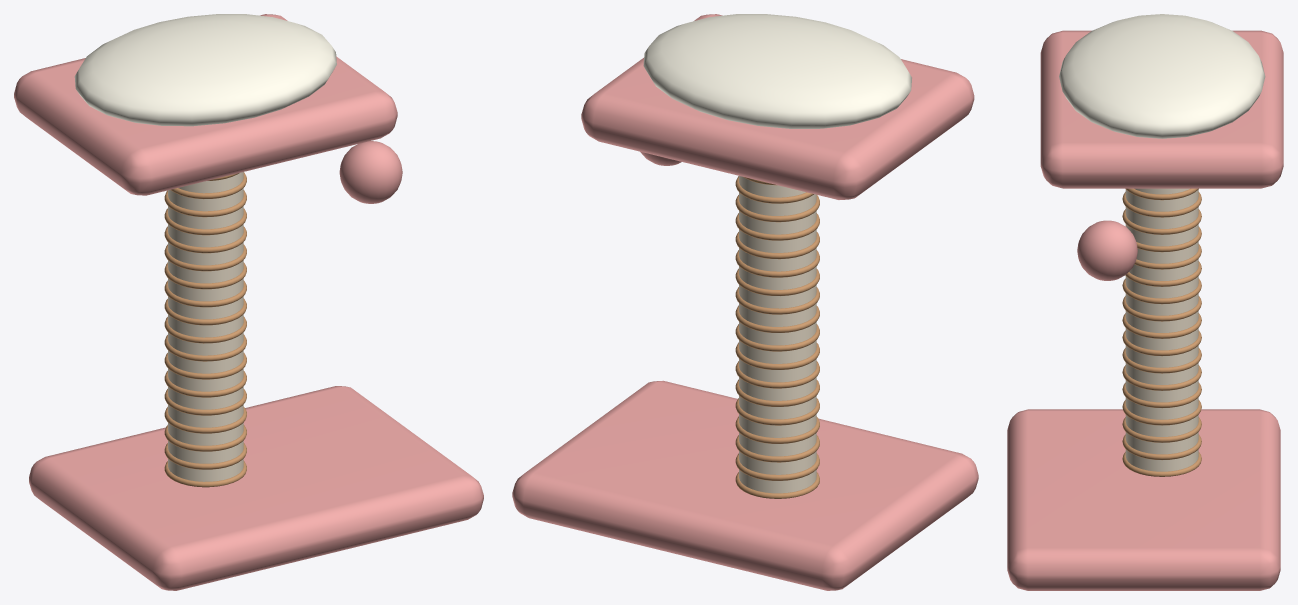
The model's file is catTreePink.glb.
3 views of the same model, side by side, from view 1: azimuth 30°, elevation 25°; view 2: azimuth 150°, elevation 25°; view 3: azimuth 270°, elevation 25° (orthographic). The views are drawn at different scales.
Parts seen in each view (by area): view 1: Cat tree base, Upper perch, Cushion, Sisal post, Dangling toy, Rope ring.004, Rope ring.005, Rope ring.007, Rope ring.010, Rope ring.003, Rope ring.006, Rope ring.009 (+8 smaller); view 2: Cat tree base, Upper perch, Cushion, Sisal post, Rope ring.012, Rope ring.014, Rope ring.010, Rope ring.006, Rope ring.008, Rope ring.002, Rope ring.004, Rope ring.001 (+8 smaller); view 3: Cat tree base, Cushion, Upper perch, Sisal post, Dangling toy, Rope ring.003, Rope ring.006, Rope ring.009, Rope ring.015, Rope ring.002, Rope ring.005, Rope ring.014 (+10 smaller).
Part boxes in pixels (x1,y1,x2,y2): Cat tree base: (29,386,483,590); Upper perch: (14,14,397,195); Cushion: (74,14,336,126); Sisal post: (168,172,243,481); Dangling toy: (339,141,402,203); Rope ring.004: (164,389,246,415); Rope ring.005: (164,371,246,397); Rope ring.007: (164,334,246,361); Rope ring.010: (164,280,246,307); Rope ring.003: (164,407,246,433); Rope ring.006: (164,353,246,379); Rope ring.009: (164,298,246,325); Cat tree base: (512,380,978,590); Upper perch: (581,14,974,199); Cushion: (643,14,911,128); Sisal post: (739,176,816,493); Rope ring.012: (735,250,819,277); Rope ring.014: (735,213,819,240); Rope ring.010: (735,287,819,314); Rope ring.006: (735,361,819,388); Rope ring.008: (735,324,819,351); Rope ring.002: (735,435,819,462); Rope ring.004: (735,398,819,425); Rope ring.001: (735,453,819,480); Cat tree base: (1007,409,1280,590); Cushion: (1059,14,1265,138); Upper perch: (1040,30,1283,188); Sisal post: (1125,188,1198,471); Dangling toy: (1077,220,1137,280); Rope ring.003: (1122,400,1201,425); Rope ring.006: (1122,348,1201,373); Rope ring.009: (1122,296,1201,321); Rope ring.015: (1122,192,1201,217); Rope ring.002: (1122,417,1201,442); Rope ring.005: (1122,365,1201,390); Rope ring.014: (1122,209,1201,234).
Size of the model in its own units: 1.25 by 1.64 by 0.91.
